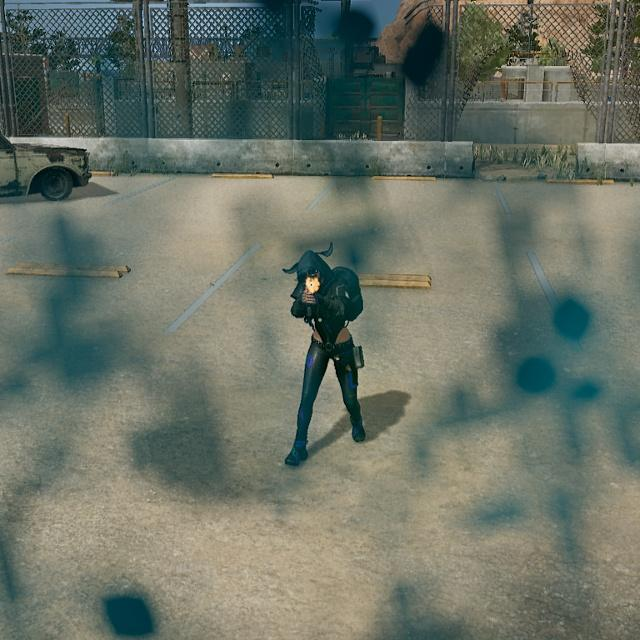head: (287, 243, 335, 297)
people: (263, 234, 387, 477)
